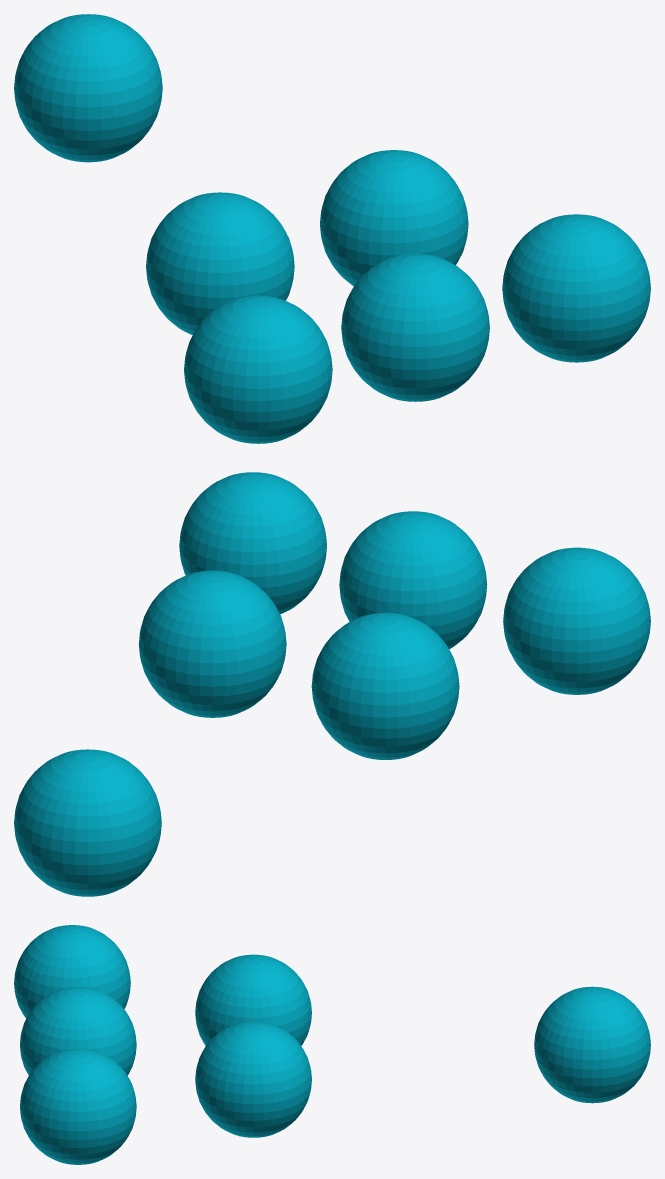
File: bowling.glb
The picture shows the model from 3 angles, top to bottom: view 1: azimuth 30°, elevation 25°; view 2: azimuth 150°, elevation 25°; view 3: azimuth 270°, elevation 25°; orthographic projection. The views are drawn at different scales.
Parts seen in each view (by area): view 1: Mesh_Mesh_head_geo.001_lambert2SG.001; view 2: Mesh_Mesh_head_geo.001_lambert2SG.001; view 3: Mesh_Mesh_head_geo.001_lambert2SG.001.
Boxes of the visible parts, x1,y1,x2,y2 form: Mesh_Mesh_head_geo.001_lambert2SG.001: [14, 14, 650, 443]; Mesh_Mesh_head_geo.001_lambert2SG.001: [14, 472, 650, 896]; Mesh_Mesh_head_geo.001_lambert2SG.001: [14, 925, 650, 1164].
Bounding box in the file's own units: 70 × 20 × 109.
